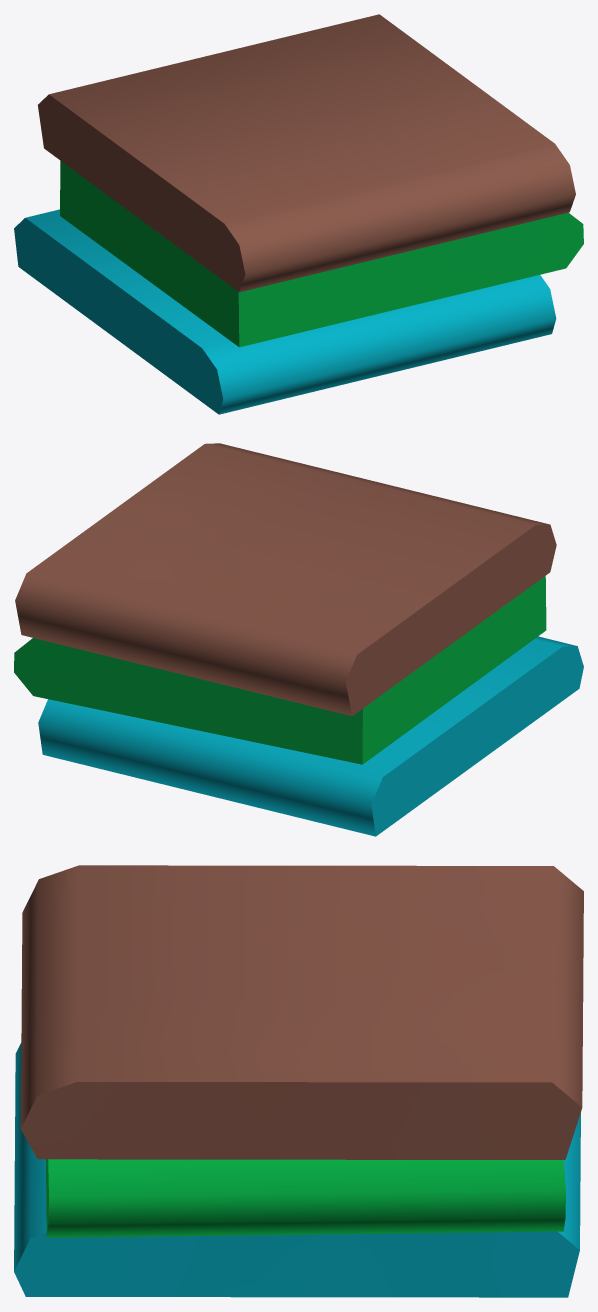
The model's file is shop_028.fbx.
3 renders of one model, top to bottom at view 1: azimuth 30°, elevation 25°; view 2: azimuth 150°, elevation 25°; view 3: azimuth 270°, elevation 25°, orthographic. The views are drawn at different scales.
Visible parts, largest first — view 1: shop_028; view 2: shop_028; view 3: shop_028.
Boxes of the visible parts, x1,y1,x2,y2 form: shop_028: (14,14,583,414); shop_028: (14,443,583,836); shop_028: (14,865,583,1297).
Size of the model in its own units: 41.02 by 40.4 by 17.96.
